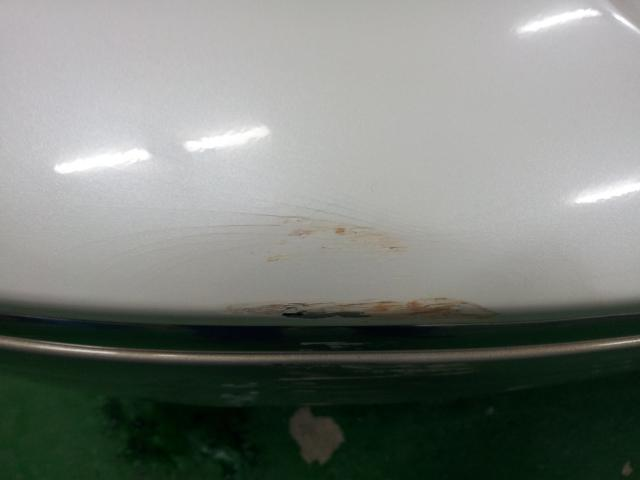scratch: (215, 219, 524, 328), (201, 357, 496, 399)
